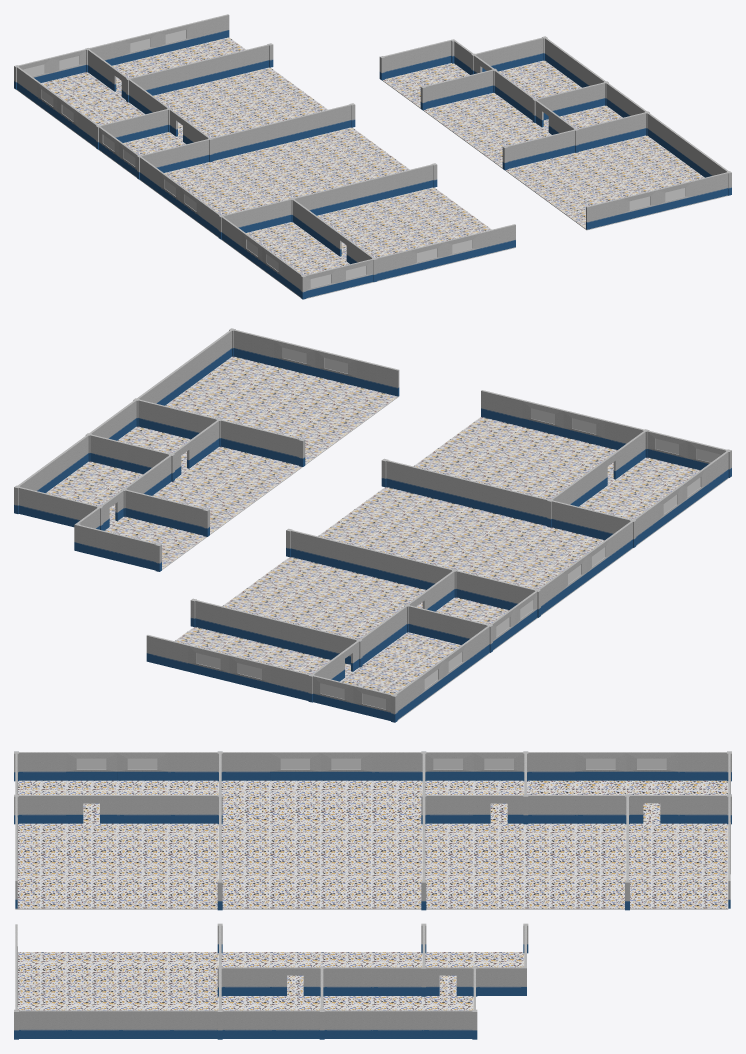
File: right_side.fbx
3 views of the same model, one above another, from view 1: azimuth 30°, elevation 25°; view 2: azimuth 150°, elevation 25°; view 3: azimuth 270°, elevation 25° (orthographic). The views are drawn at different scales.
Parts seen in each view (by area): view 1: 106.001; view 2: 106.001; view 3: 106.001.
Part boxes in pixels (left/top/right/bottom): 106.001: left=14, top=14, right=731, bottom=299; 106.001: left=14, top=328, right=731, bottom=722; 106.001: left=14, top=751, right=731, bottom=1039.
Bounding box in the file's own units: 12101 × 620 × 14100.
